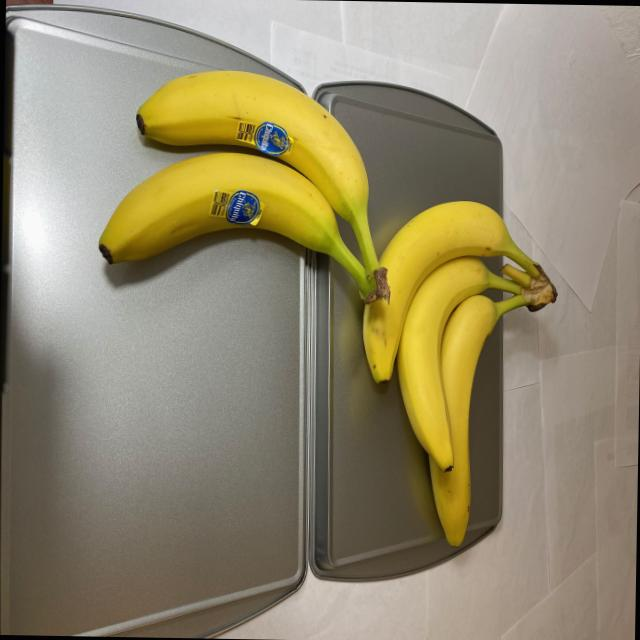banana: (90, 62, 394, 307), (351, 197, 558, 553)
